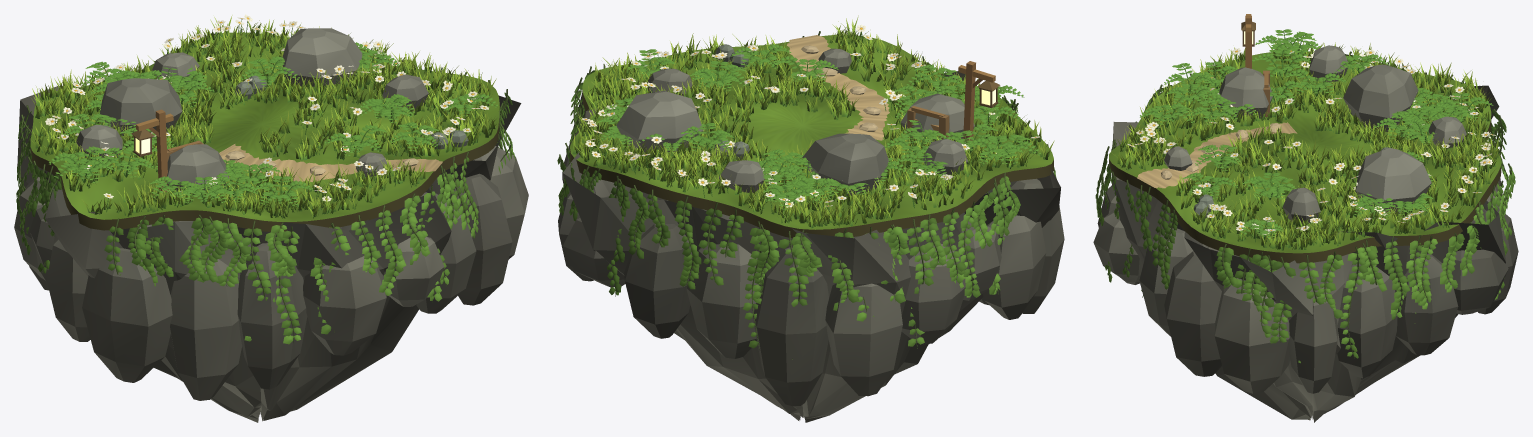
Rendered from island-BkrdanYh.glb.
The picture shows the model from 3 angles, left to right: view 1: azimuth 30°, elevation 25°; view 2: azimuth 150°, elevation 25°; view 3: azimuth 270°, elevation 25°; orthographic projection. The views are drawn at different scales.
Parts seen in each view (by area): view 1: terrain/Cliff_and_boulders, grass/Windblown_grass, terrain/Meadow, vines/vines_from_Hanging_vines_and_ferns, ferns/ferns_from_Hanging_vines_and_ferns, terrain/Earth_under_the_meadow, flowers/Wildflowers, terrain/Sand_and_path_stones, props/Fence_and_lantern_post, flowers/flowers_from_Hanging_vines_and_ferns; view 2: terrain/Cliff_and_boulders, grass/Windblown_grass, terrain/Meadow, vines/vines_from_Hanging_vines_and_ferns, ferns/ferns_from_Hanging_vines_and_ferns, terrain/Earth_under_the_meadow, flowers/Wildflowers, terrain/Sand_and_path_stones, props/Fence_and_lantern_post, flowers/flowers_from_Hanging_vines_and_ferns; view 3: terrain/Cliff_and_boulders, grass/Windblown_grass, terrain/Meadow, vines/vines_from_Hanging_vines_and_ferns, ferns/ferns_from_Hanging_vines_and_ferns, terrain/Earth_under_the_meadow, flowers/Wildflowers, terrain/Sand_and_path_stones, flowers/flowers_from_Hanging_vines_and_ferns, props/Fence_and_lantern_post.
Boxes of the visible parts, box(x1,y1,x2,y2) form: terrain/Cliff_and_boulders: box(14, 28, 528, 422); grass/Windblown_grass: box(30, 15, 496, 218); terrain/Meadow: box(30, 32, 499, 221); vines/vines_from_Hanging_vines_and_ferns: box(16, 28, 515, 344); ferns/ferns_from_Hanging_vines_and_ferns: box(48, 42, 497, 206); terrain/Earth_under_the_meadow: box(30, 118, 499, 232); flowers/Wildflowers: box(45, 14, 488, 201); terrain/Sand_and_path_stones: box(219, 144, 442, 181); props/Fence_and_lantern_post: box(136, 109, 203, 192); flowers/flowers_from_Hanging_vines_and_ferns: box(48, 19, 484, 212); terrain/Cliff_and_boulders: box(558, 44, 1064, 422); grass/Windblown_grass: box(572, 15, 1054, 228); terrain/Meadow: box(570, 34, 1053, 229); vines/vines_from_Hanging_vines_and_ferns: box(557, 30, 1056, 359); ferns/ferns_from_Hanging_vines_and_ferns: box(597, 44, 1040, 210); terrain/Earth_under_the_meadow: box(570, 89, 1053, 238); flowers/Wildflowers: box(582, 24, 1039, 207); terrain/Sand_and_path_stones: box(787, 35, 889, 140); props/Fence_and_lantern_post: box(907, 61, 995, 141); flowers/flowers_from_Hanging_vines_and_ferns: box(585, 32, 1037, 213); terrain/Cliff_and_boulders: box(1093, 45, 1518, 422); grass/Windblown_grass: box(1112, 36, 1501, 250); terrain/Meadow: box(1109, 51, 1501, 253); vines/vines_from_Hanging_vines_and_ferns: box(1095, 51, 1515, 363); ferns/ferns_from_Hanging_vines_and_ferns: box(1140, 29, 1493, 239); terrain/Earth_under_the_meadow: box(1109, 116, 1501, 263); flowers/Wildflowers: box(1127, 48, 1496, 234); terrain/Sand_and_path_stones: box(1137, 122, 1297, 188); flowers/flowers_from_Hanging_vines_and_ferns: box(1131, 53, 1492, 242); props/Fence_and_lantern_post: box(1245, 14, 1269, 116).
Size of the model in its own units: 10.33 by 7.61 by 8.53.
